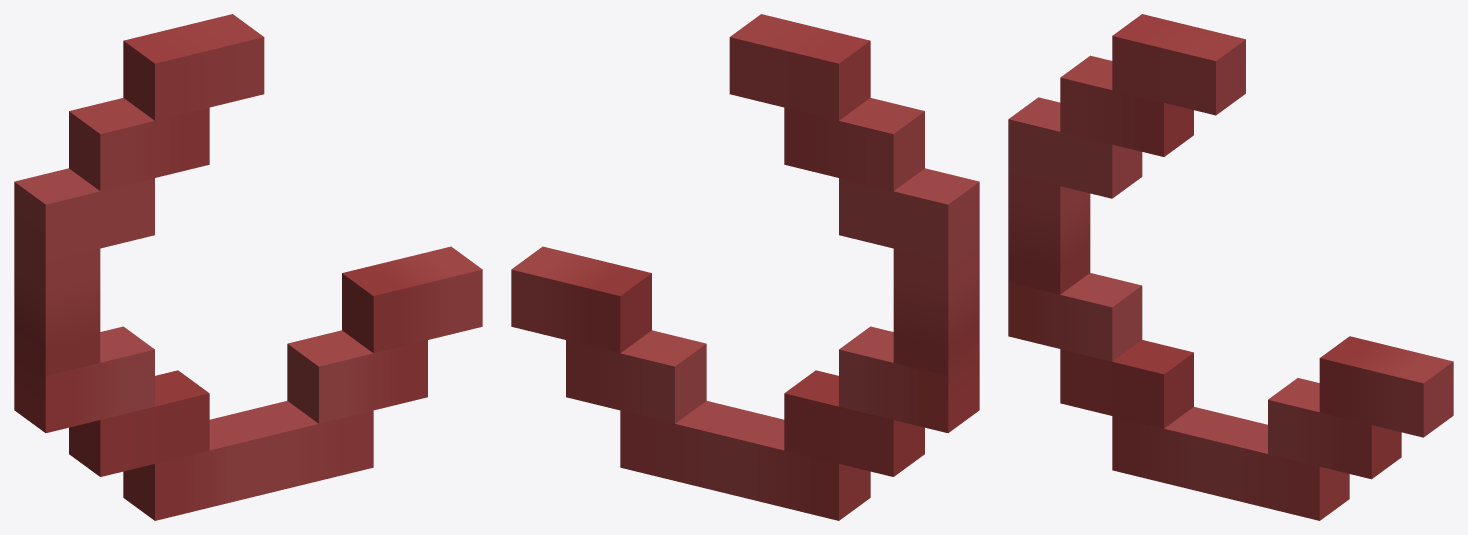
The model's file is Altar_BloodMeter_8.fbx.
3 views of the same model, side by side, from view 1: azimuth 30°, elevation 25°; view 2: azimuth 150°, elevation 25°; view 3: azimuth 330°, elevation 25° (orthographic). The views are drawn at different scales.
Visible parts, largest first — view 1: Altar_BloodMeter_8; view 2: Altar_BloodMeter_8; view 3: Altar_BloodMeter_8.
Part boxes in pixels (x1,y1,x2,y2): Altar_BloodMeter_8: [14, 14, 482, 520]; Altar_BloodMeter_8: [511, 14, 979, 520]; Altar_BloodMeter_8: [1008, 14, 1453, 520].
Size of the model in its own units: 8 by 8 by 1.
Materials: 1 (1 with a texture image).
